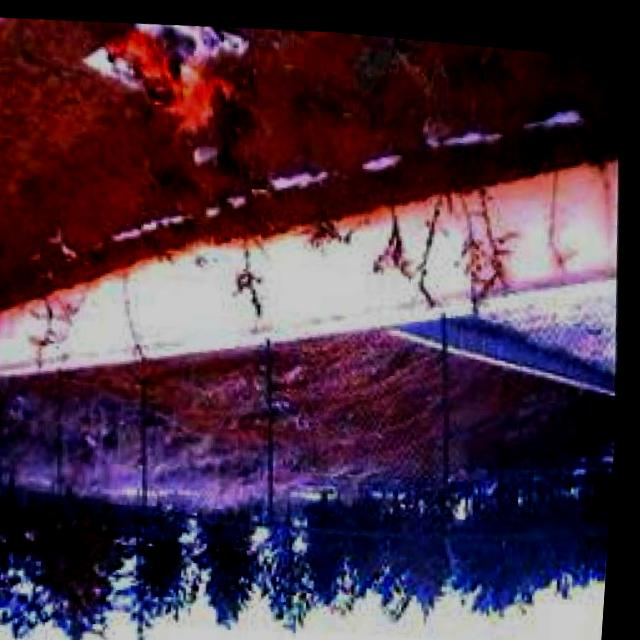Fire: (97, 15, 258, 147)
